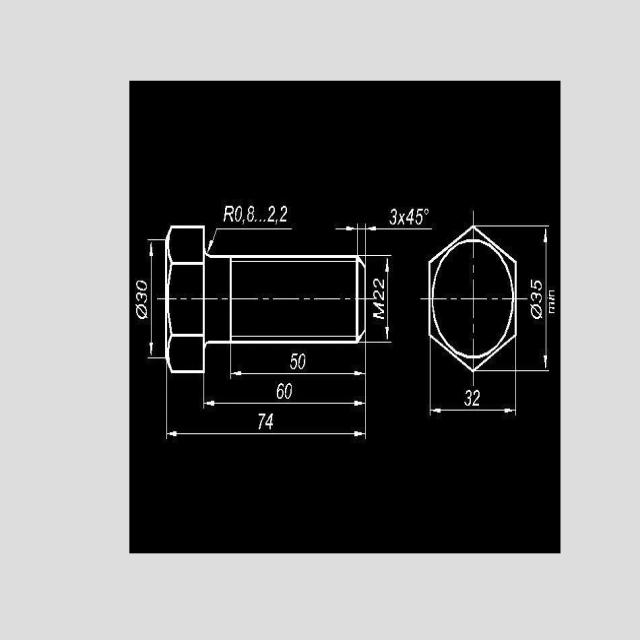marking_line: (168, 429, 365, 439), (206, 397, 364, 409), (231, 369, 363, 377), (543, 230, 550, 370), (148, 242, 155, 357), (431, 409, 517, 415), (369, 226, 432, 234), (384, 261, 390, 339), (336, 225, 353, 231)
numeric: (404, 207, 414, 228), (265, 414, 276, 432), (297, 353, 307, 372), (414, 206, 423, 227), (283, 382, 294, 399), (135, 276, 148, 290), (289, 353, 299, 371), (257, 412, 266, 432), (461, 389, 471, 407), (471, 389, 480, 409), (388, 208, 397, 227), (275, 384, 285, 401), (370, 290, 387, 300), (246, 204, 254, 225), (279, 205, 288, 223), (530, 278, 543, 290), (235, 204, 242, 225), (530, 292, 543, 303), (372, 279, 386, 289), (268, 205, 275, 224), (134, 292, 148, 301)
special_symbol: (207, 225, 294, 254), (529, 303, 544, 323), (135, 303, 148, 321)
